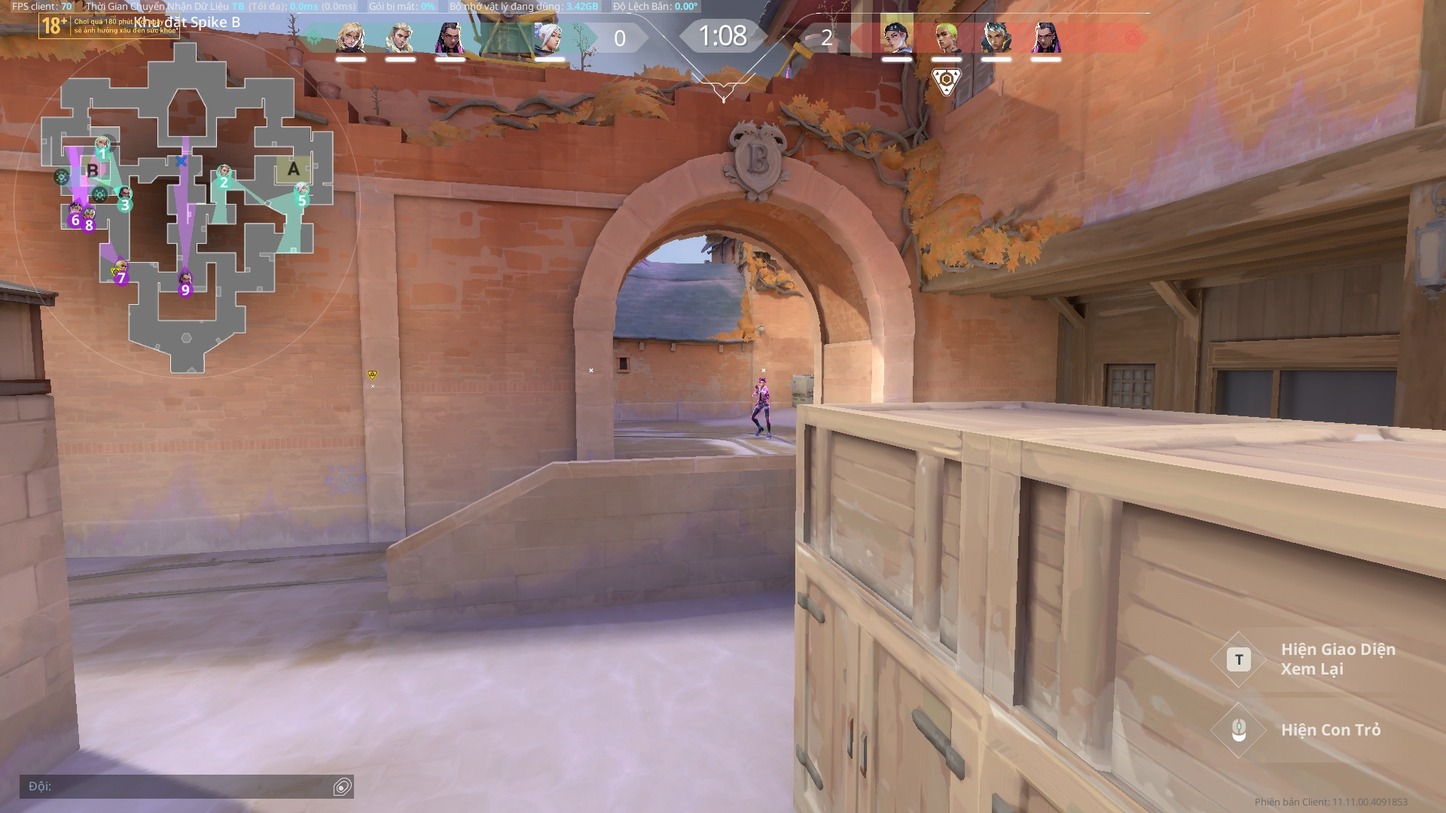body: (756, 386, 770, 401)
head: (757, 377, 765, 387)
